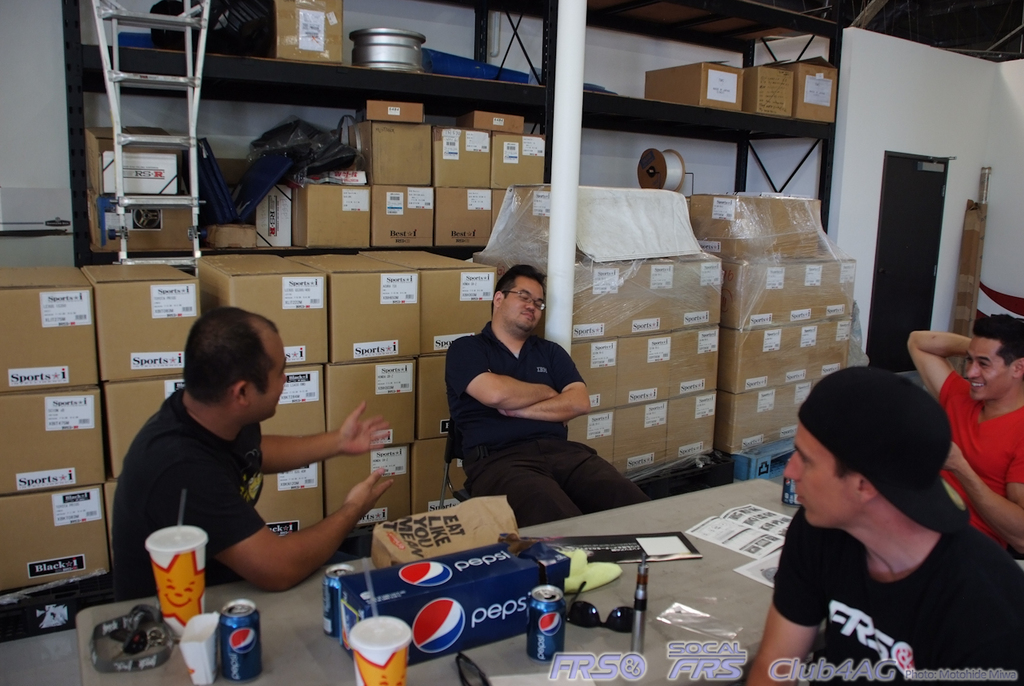Human_hand: (344, 466, 398, 520), (332, 404, 389, 455), (944, 440, 966, 475)
